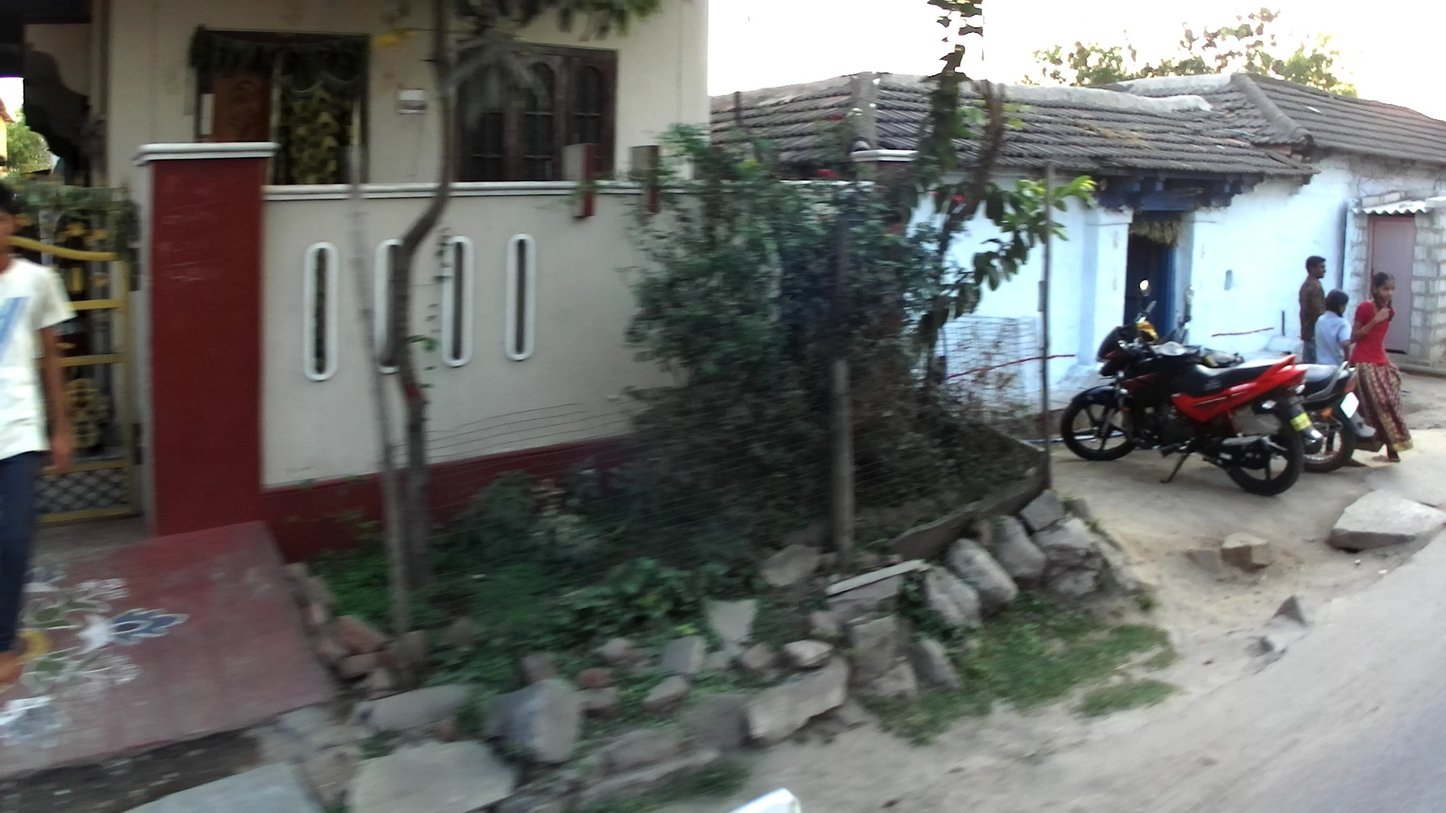motorcycle: (1059, 279, 1325, 498), (1155, 285, 1377, 473)
person: (1, 179, 78, 683), (1349, 272, 1414, 461), (1313, 288, 1353, 369), (1298, 254, 1327, 365)
